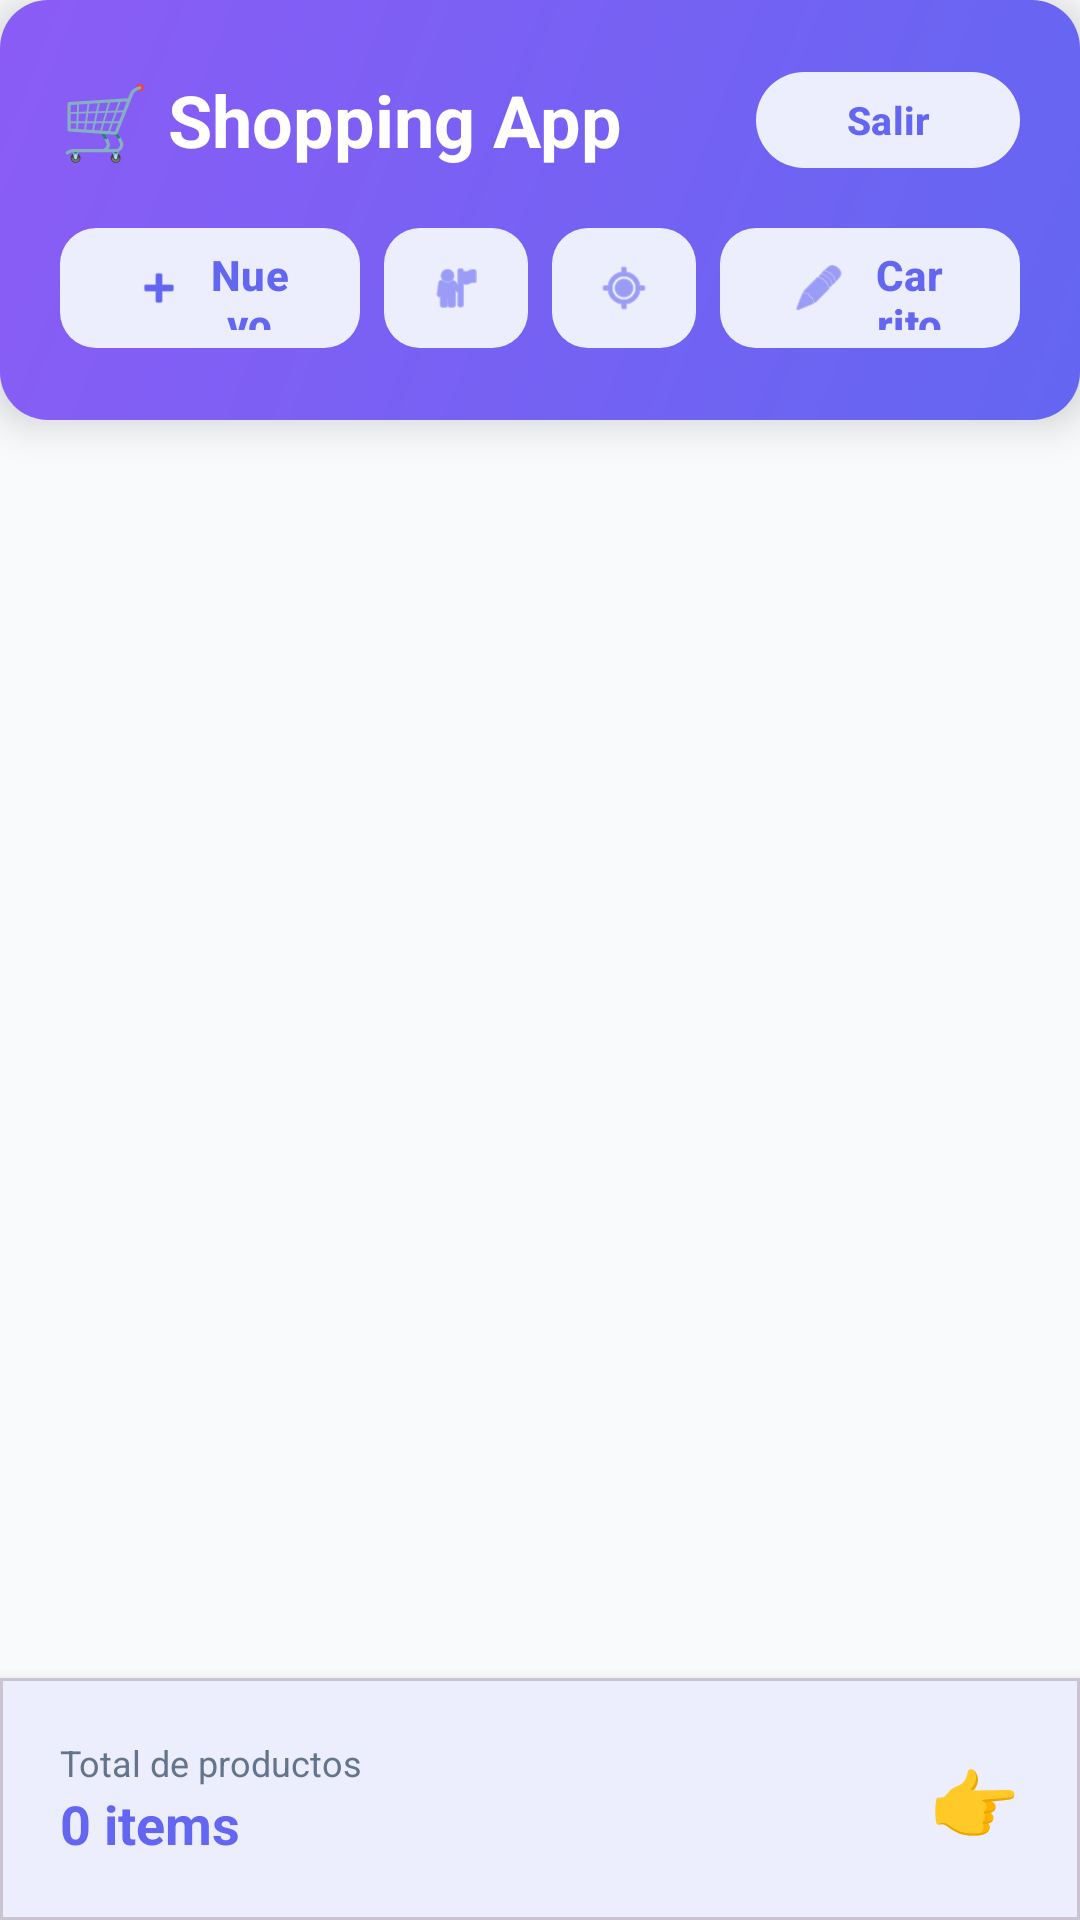

Point at icon controls on the screen. Image size 1080*1920, points as (x=x, y=y).
mylocation: (x=624, y=288)
myplaces: (x=456, y=288)
